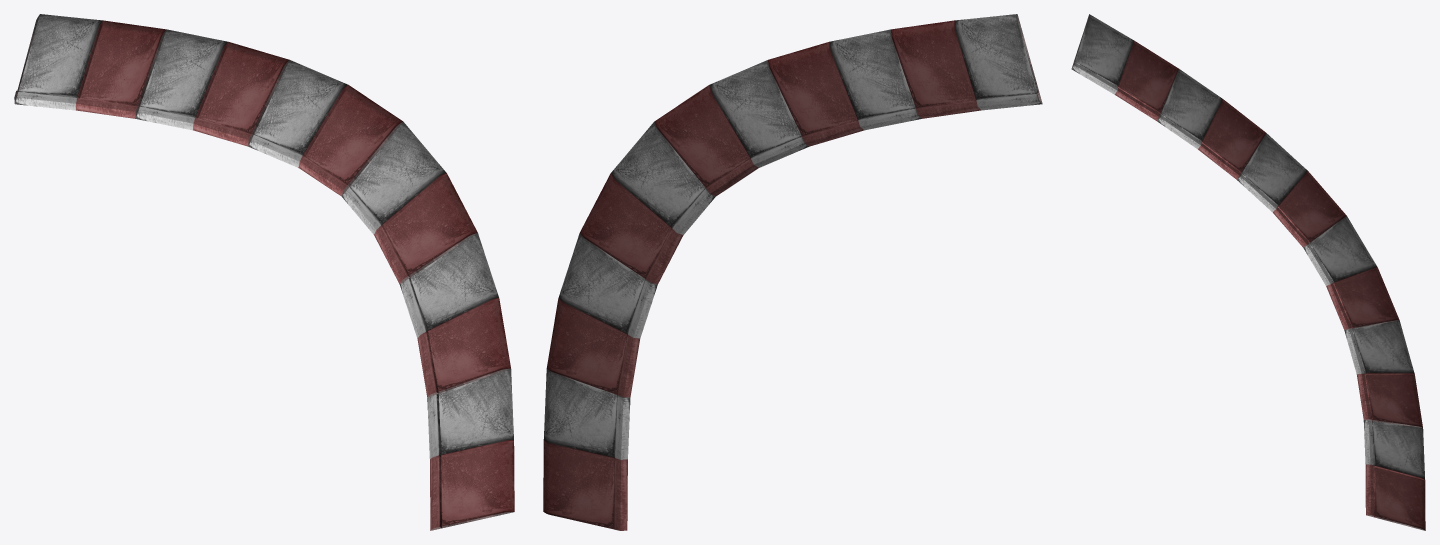
Rendered from _1KERB_01_02_Scene.230.obj.
3 views of the same model, side by side, from view 1: azimuth 30°, elevation 25°; view 2: azimuth 150°, elevation 25°; view 3: azimuth 330°, elevation 25° (orthographic). The views are drawn at different scales.
Parts seen in each view (by area): view 1: _1KERB_01_02_Scene.230; view 2: _1KERB_01_02_Scene.230; view 3: _1KERB_01_02_Scene.230.
Part boxes in pixels (x1,y1,x2,y2): _1KERB_01_02_Scene.230: (14,14,514,530); _1KERB_01_02_Scene.230: (543,14,1042,530); _1KERB_01_02_Scene.230: (1071,14,1425,530).
Bounding box in the file's own units: 7.65 × 8.98 × 0.0571.
